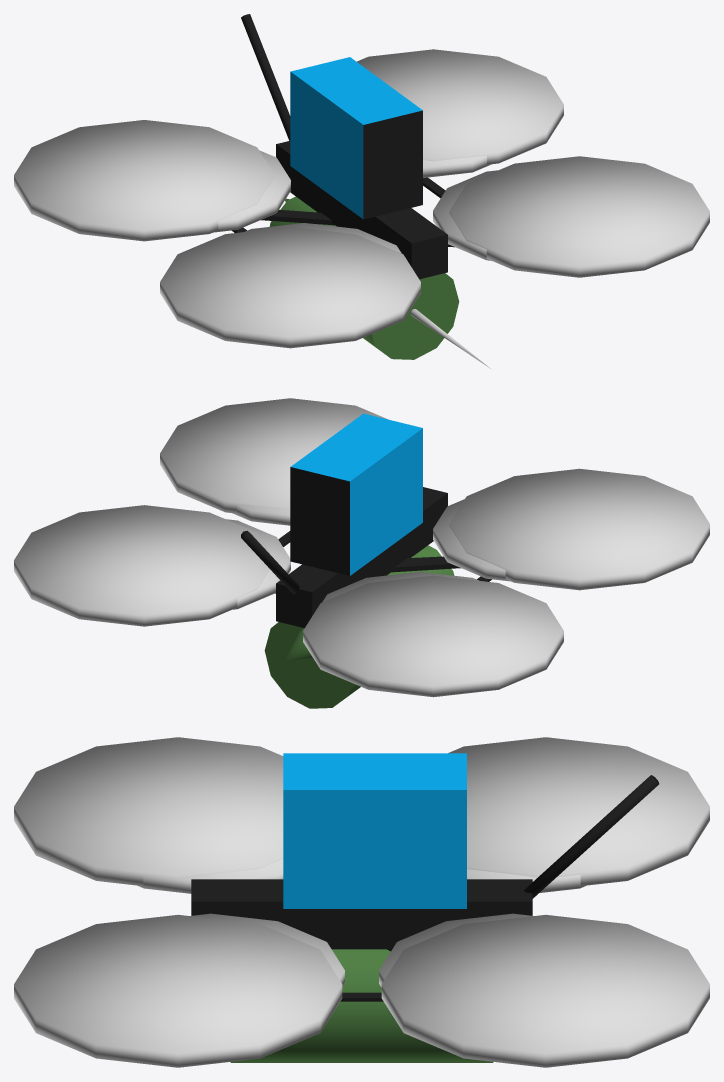
Rendered from Drones.fbx.
3 renders of one model, top to bottom at view 1: azimuth 30°, elevation 25°; view 2: azimuth 150°, elevation 25°; view 3: azimuth 270°, elevation 25°, orthographic. The views are drawn at different scales.
Parts seen in each view (by area): view 1: Propeller10, Battery10, Body10, Propeller8, Explosives8, Battery8, Antenna10, Frame10, Frame8; view 2: Propeller10, Battery10, Body10, Propeller8, Explosives8, Battery8, Antenna10, Frame10; view 3: Propeller10, Battery10, Body10, Explosives8, Propeller8, Antenna10.
Boxes of the visible parts, left/top/right/bottom form: Propeller10: left=14, top=49, right=709, bottom=348; Battery10: left=290, top=57, right=422, bottom=219; Body10: left=276, top=141, right=447, bottom=279; Propeller8: left=213, top=150, right=497, bottom=260; Explosives8: left=269, top=196, right=490, bottom=368; Battery8: left=366, top=130, right=420, bottom=217; Antenna10: left=241, top=14, right=290, bottom=140; Frame10: left=232, top=177, right=445, bottom=232; Frame8: left=261, top=210, right=454, bottom=247; Propeller10: left=14, top=398, right=709, bottom=697; Battery10: left=290, top=413, right=422, bottom=575; Body10: left=276, top=487, right=447, bottom=627; Propeller8: left=225, top=499, right=509, bottom=609; Explosives8: left=264, top=545, right=454, bottom=708; Battery8: left=293, top=487, right=347, bottom=563; Antenna10: left=241, top=530, right=299, bottom=594; Frame10: left=275, top=531, right=491, bottom=593; Propeller10: left=14, top=737, right=709, bottom=1067; Battery10: left=283, top=753, right=466, bottom=908; Body10: left=191, top=879, right=532, bottom=949; Explosives8: left=230, top=949, right=493, bottom=1062; Propeller8: left=138, top=859, right=585, bottom=987; Antenna10: left=523, top=775, right=659, bottom=898.
Size of the model in its own units: 57 by 24 by 53.
